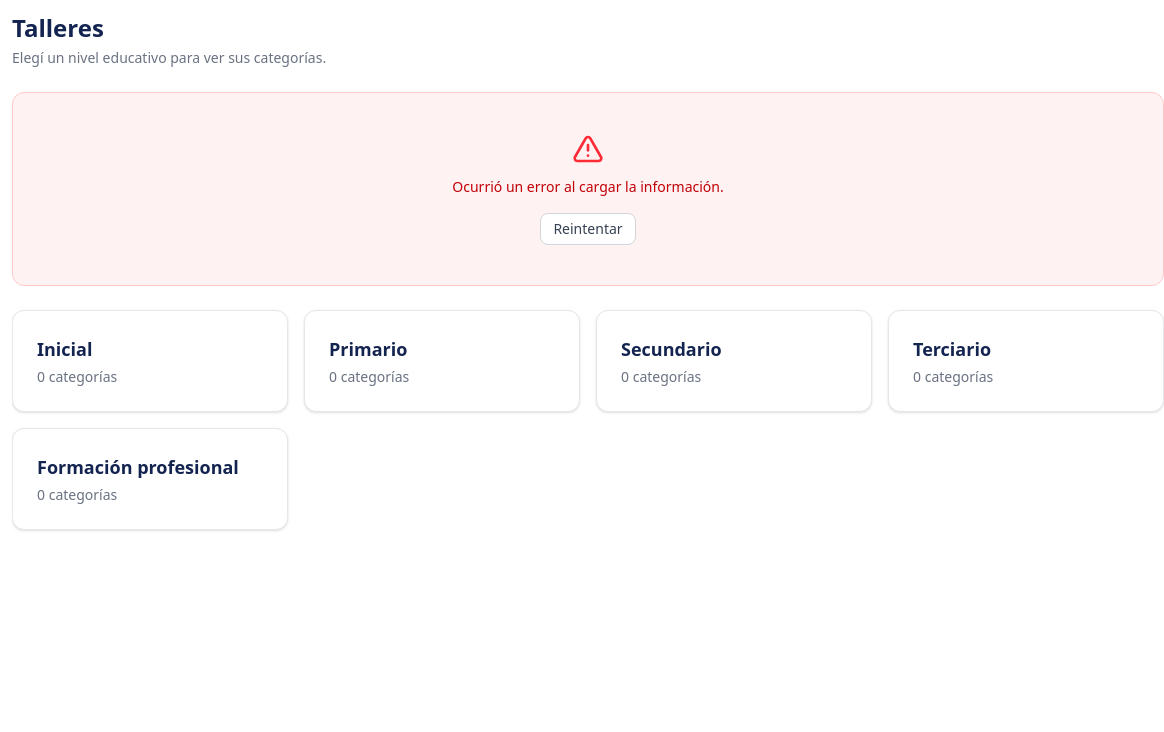
NivelesPage › si la carga falla muestra un alert con "Reintentar" que vuelve a consultar
Expected: the message "Ocurrió un error al cargar la información. Reintentar" is shown, [12, 92, 1163, 286]
Click the button "Reintentar": point(588, 229) [540, 213, 636, 245]
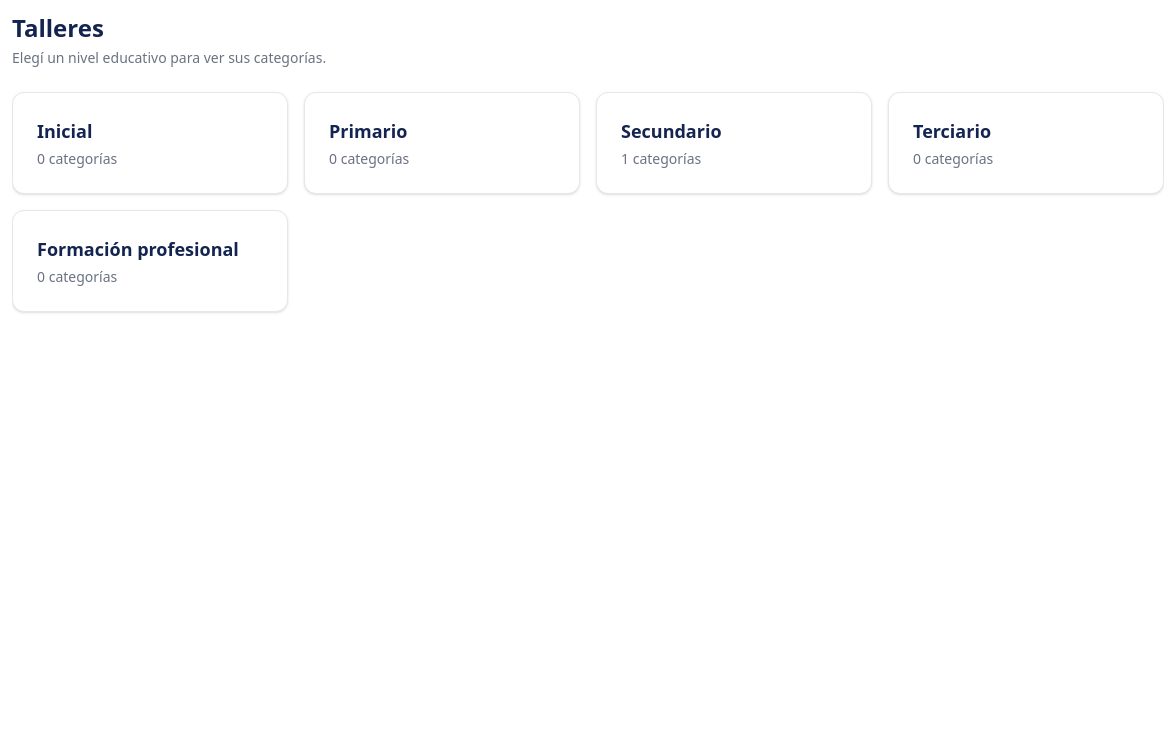
Expected: the link "Secundario 1 categorías" is shown, [596, 92, 872, 194]
Expected: the message "Ocurrió un error al cargar la información. Reintentar" is gone
